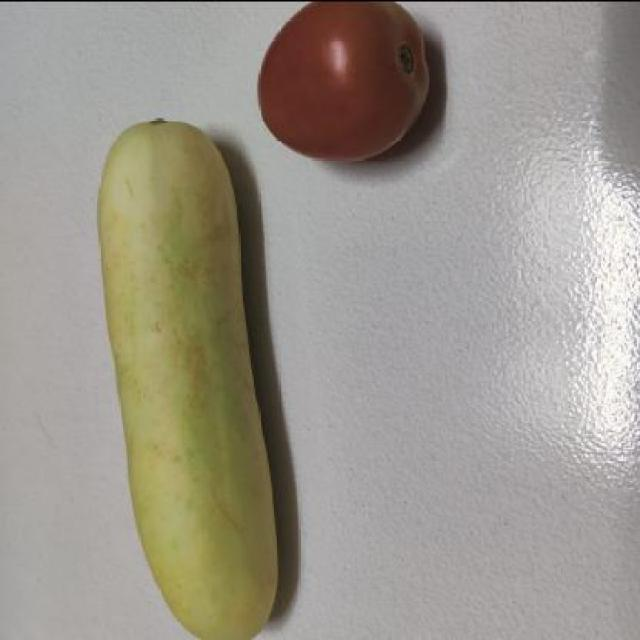tomato: (252, 0, 442, 162)
